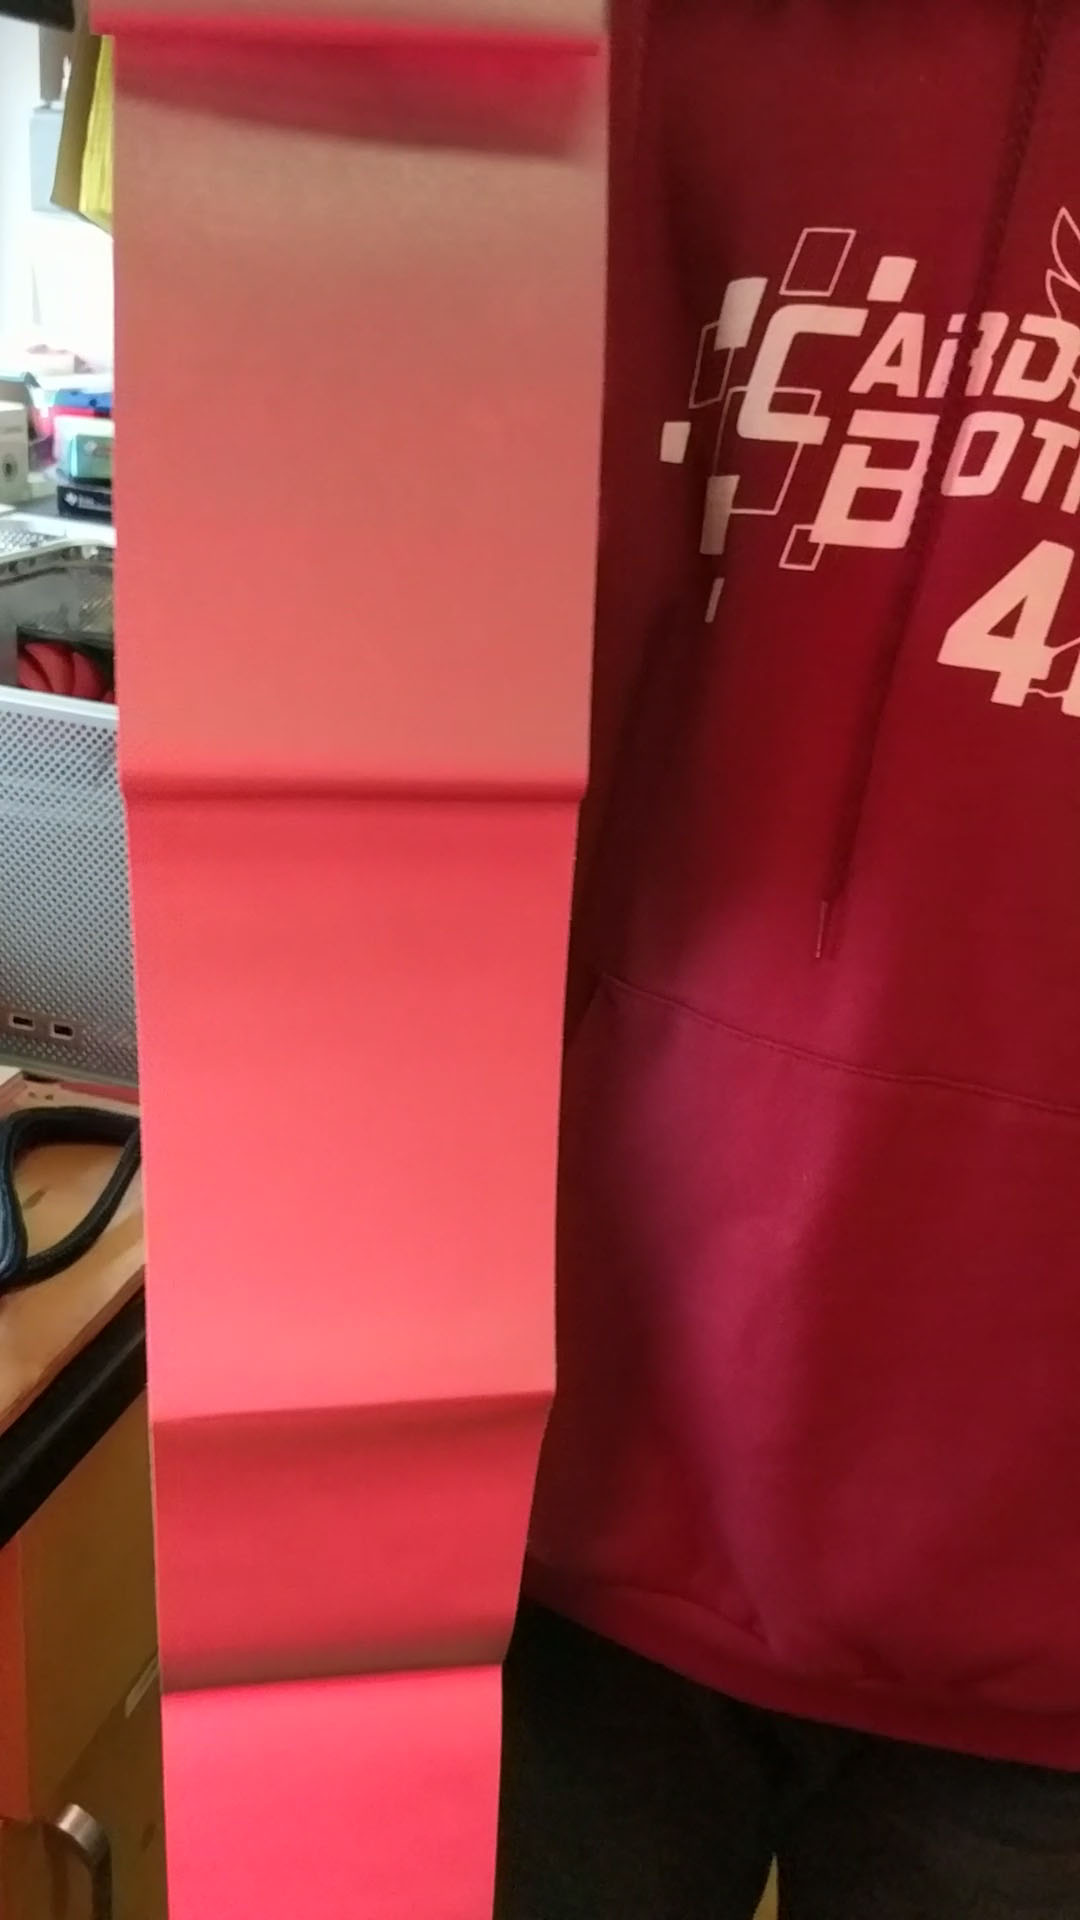gear: (112, 0, 600, 1920)
